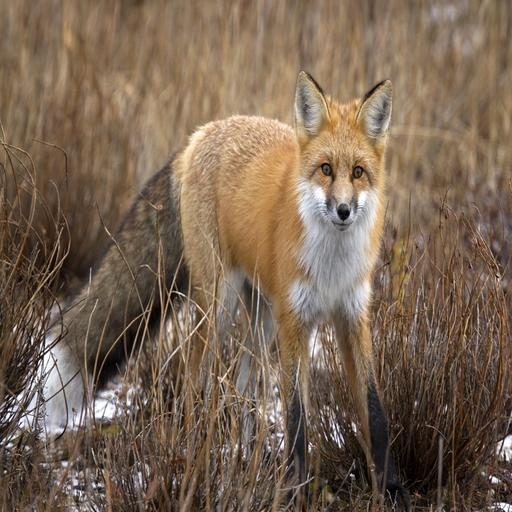Fox: (172, 66, 426, 430)
